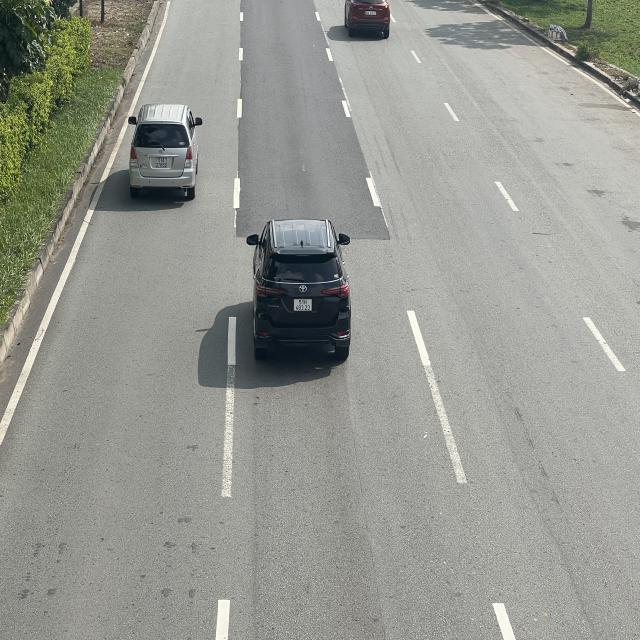car: (246, 219, 350, 359), (126, 105, 201, 200), (341, 0, 391, 35)
